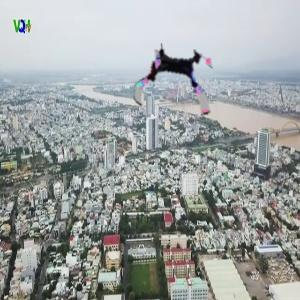drone: (130, 38, 218, 126)
